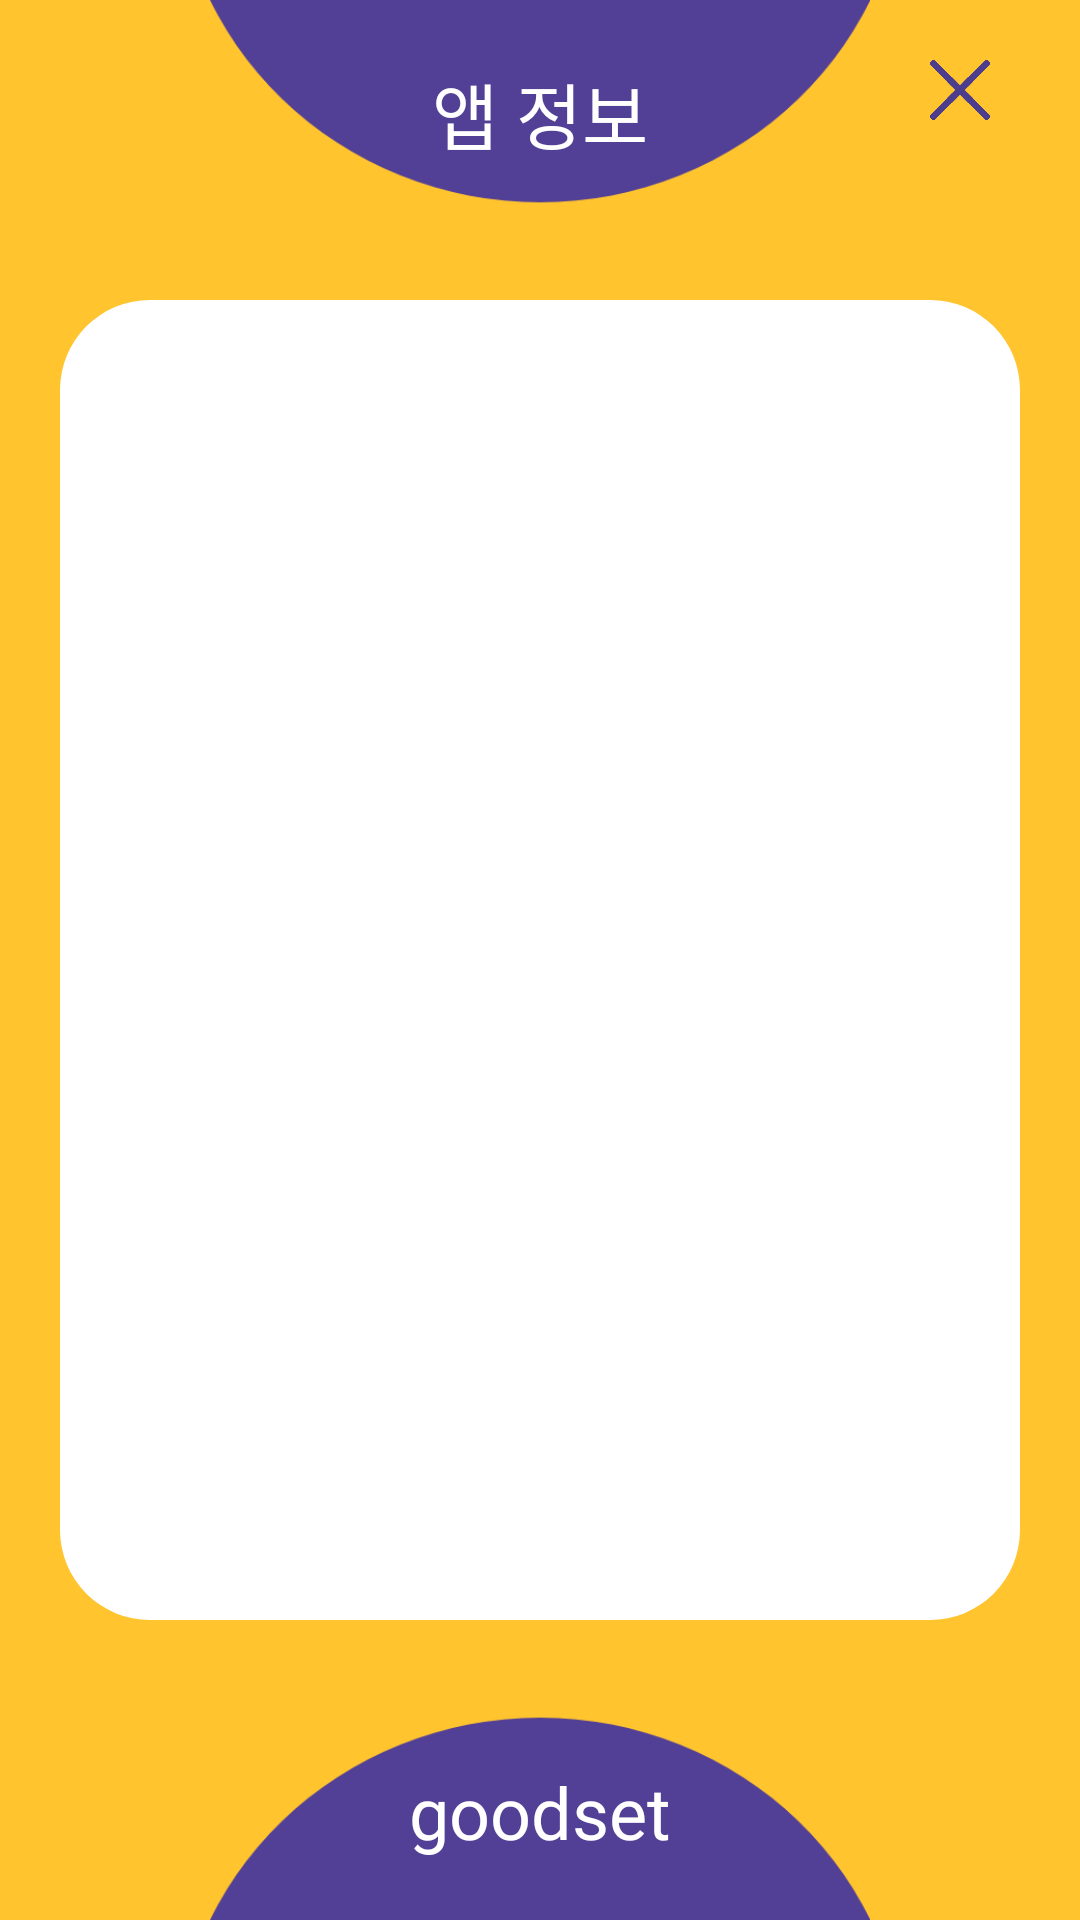

Point at icon controls on the screen. Image size 1080px×1920px, points as (x,y).
close: (960,90)
